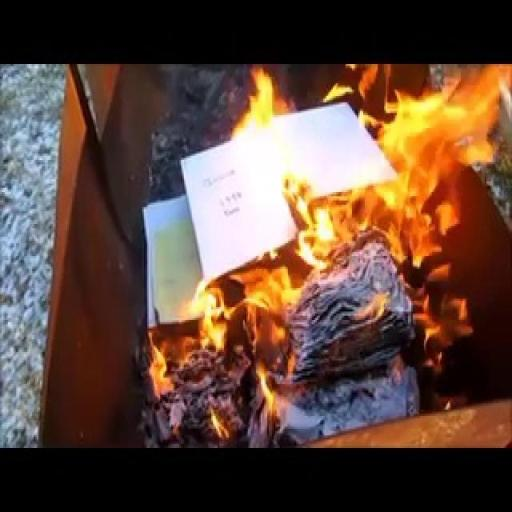smoke: (224, 64, 467, 326), (136, 308, 226, 415)
